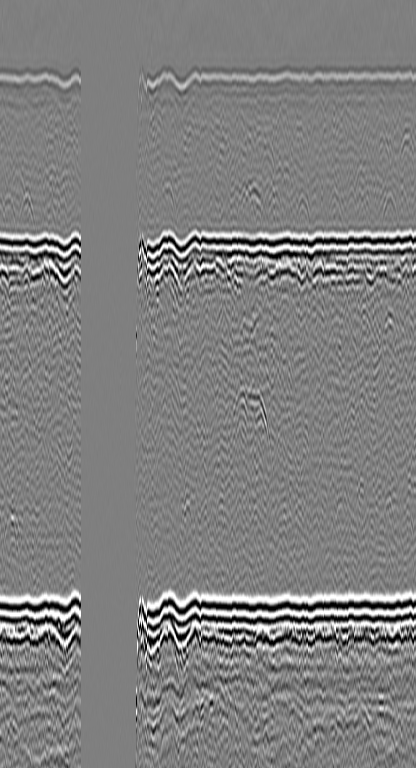fault: (61, 204, 163, 343), (70, 52, 152, 146), (171, 211, 200, 278), (164, 52, 196, 104)
